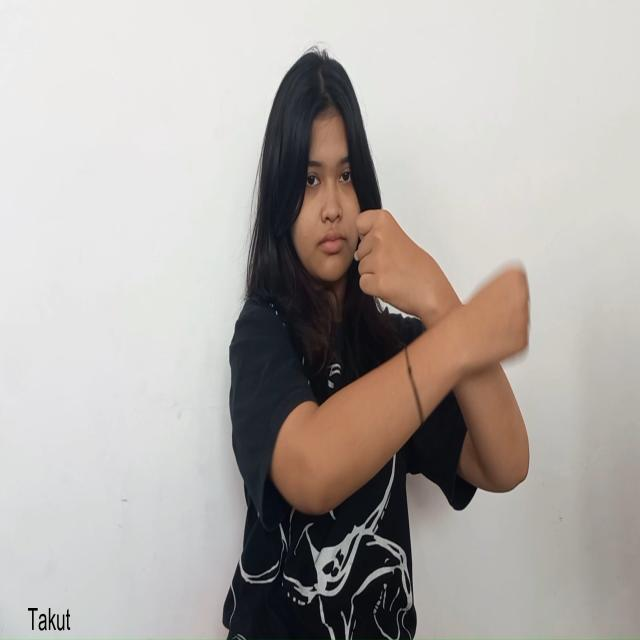Takut -BISINDO-: (352, 206, 532, 393)
